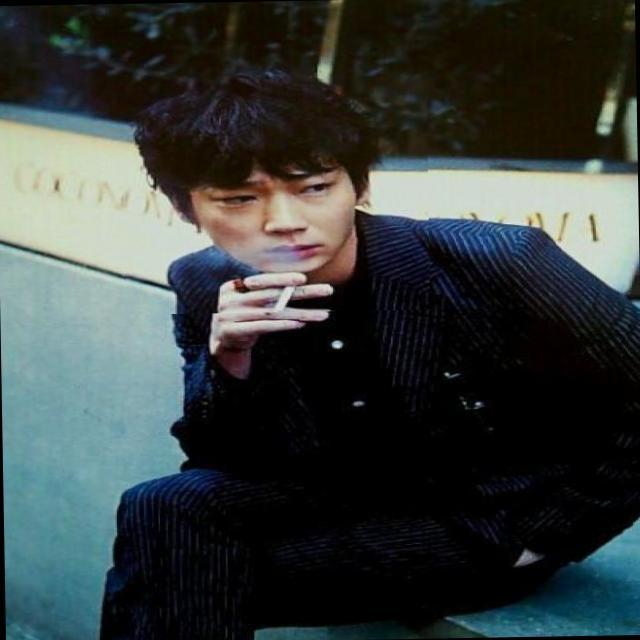cigarette: (233, 257, 350, 334)
